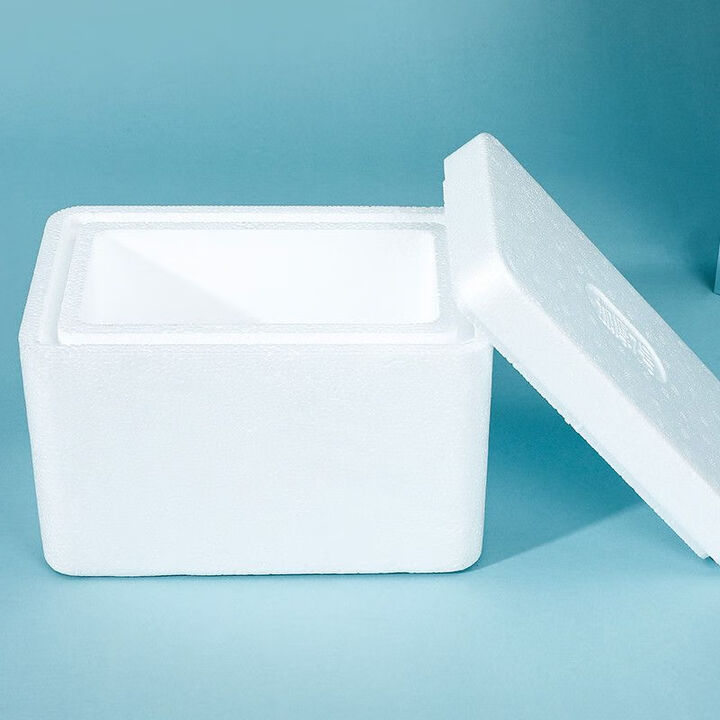Boxes: (19, 135, 719, 576)
